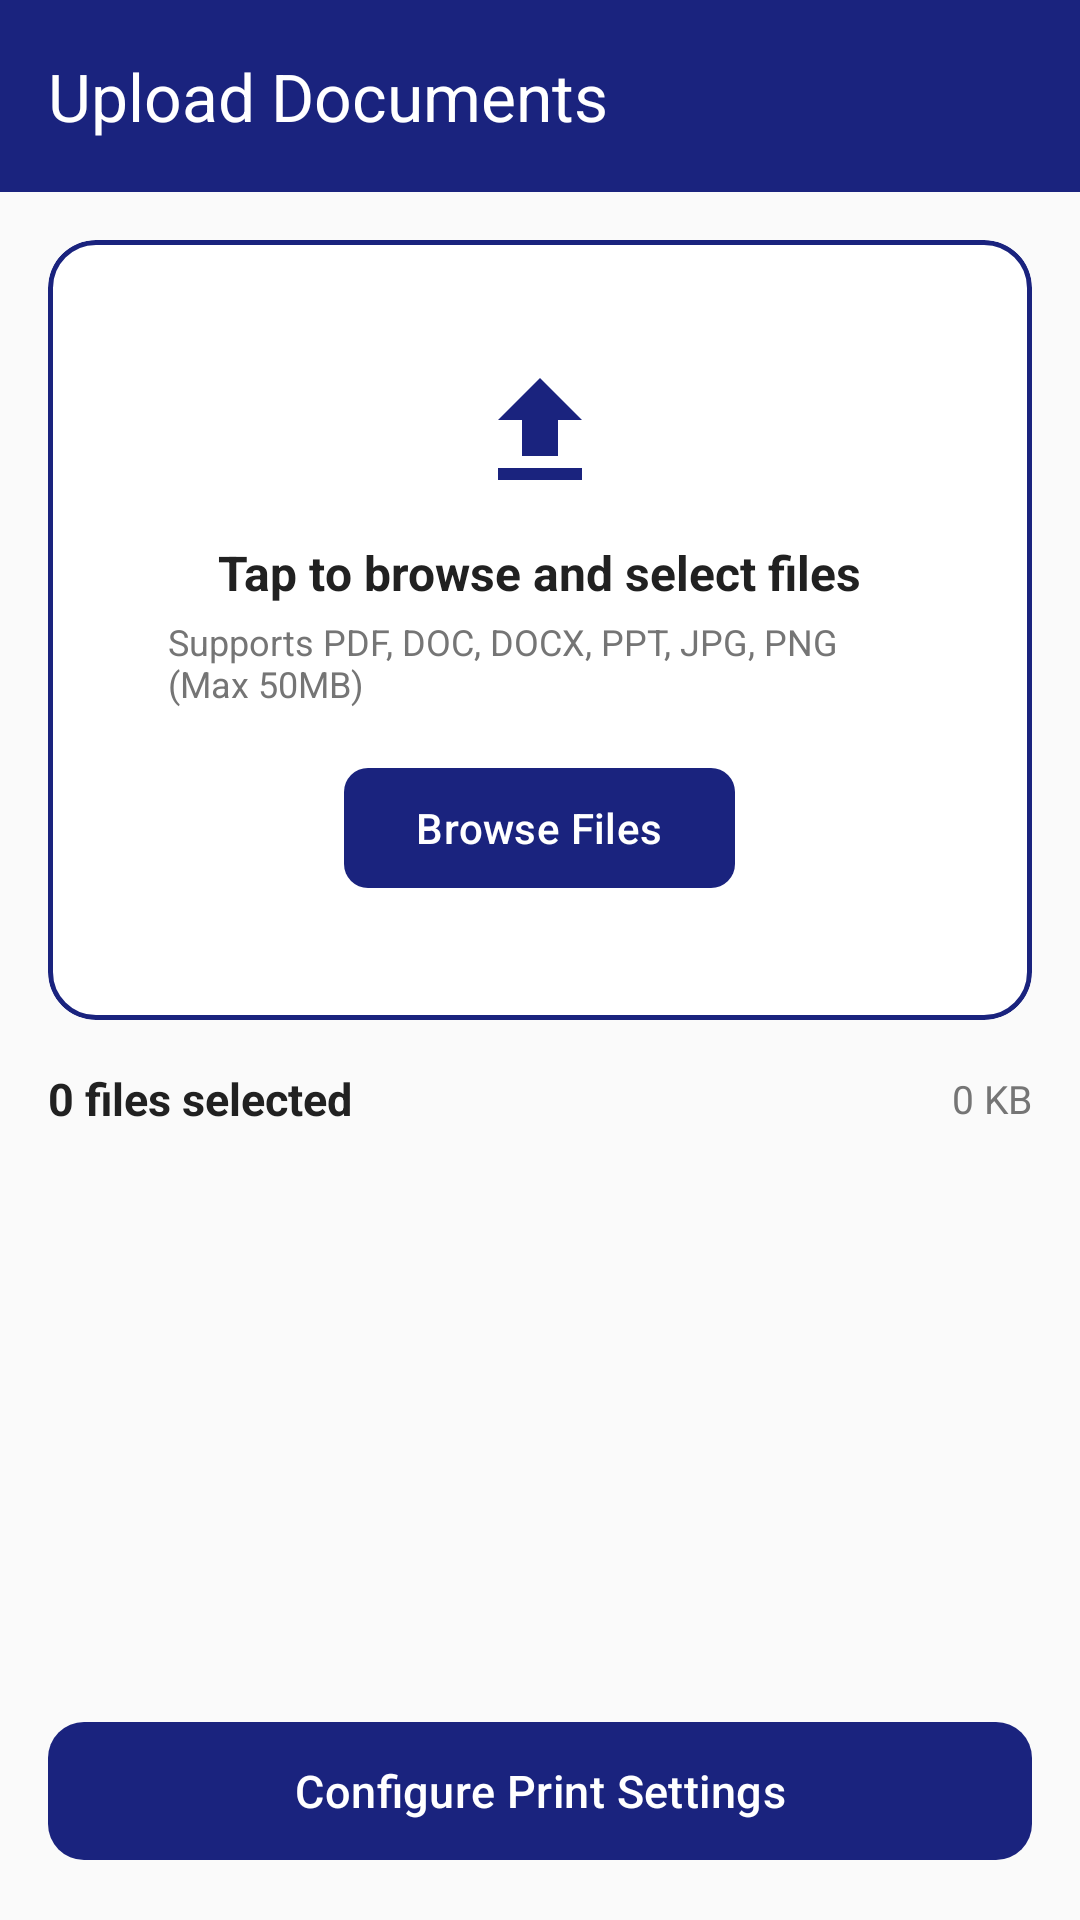

Icons on this 1080px x 1920px Android screen, each with the point to tap as [x,y]:
upload: [540,429]
